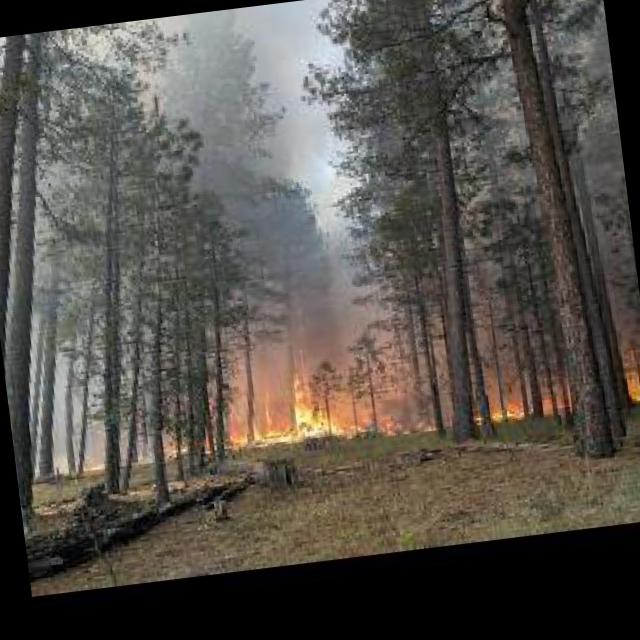fire: (224, 368, 372, 450), (466, 399, 530, 428), (626, 376, 640, 403)
